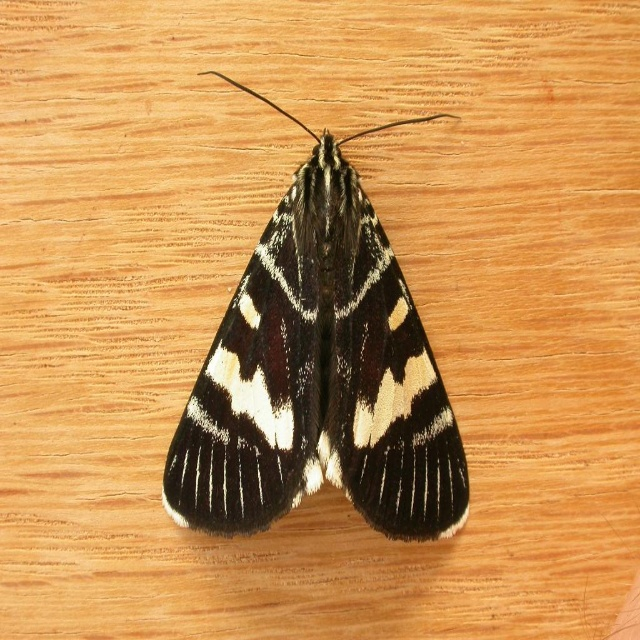Moths and butterflies: (160, 70, 472, 545)
